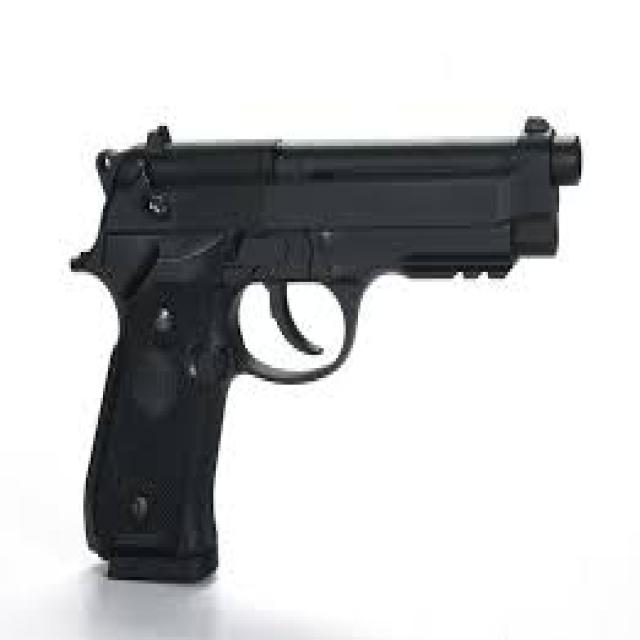pistol: (64, 103, 583, 595)
